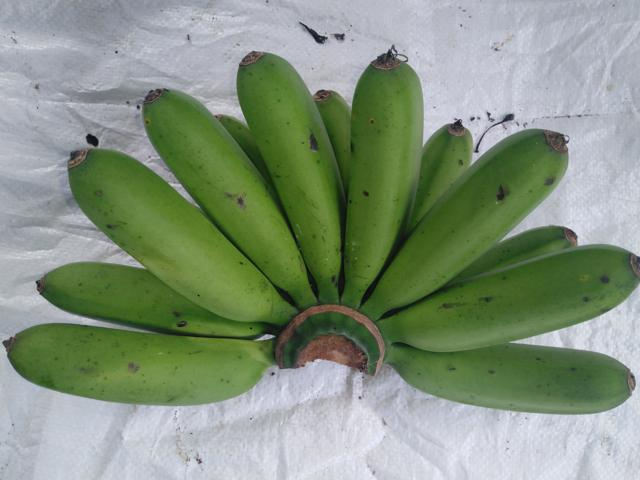unripe: (375, 125, 590, 336), (54, 136, 302, 313), (230, 48, 364, 360), (127, 71, 307, 284), (337, 32, 456, 334), (373, 235, 635, 358), (0, 299, 287, 408), (353, 323, 633, 420), (18, 241, 277, 331)
